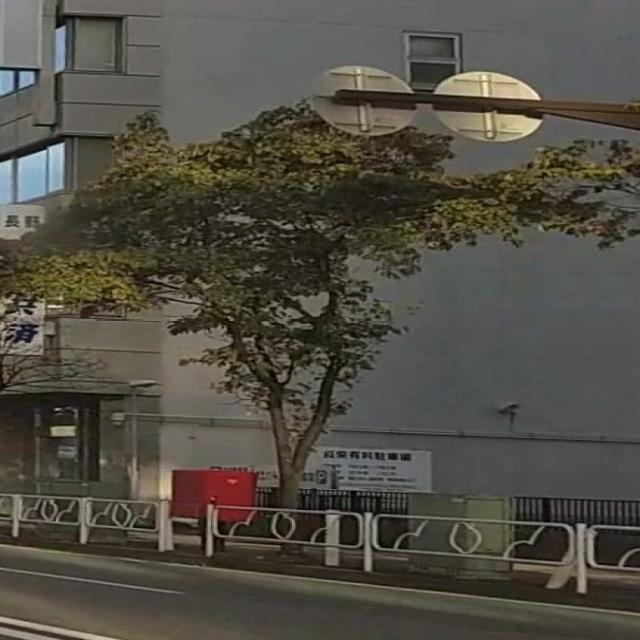dogwood: (0, 97, 640, 558)
